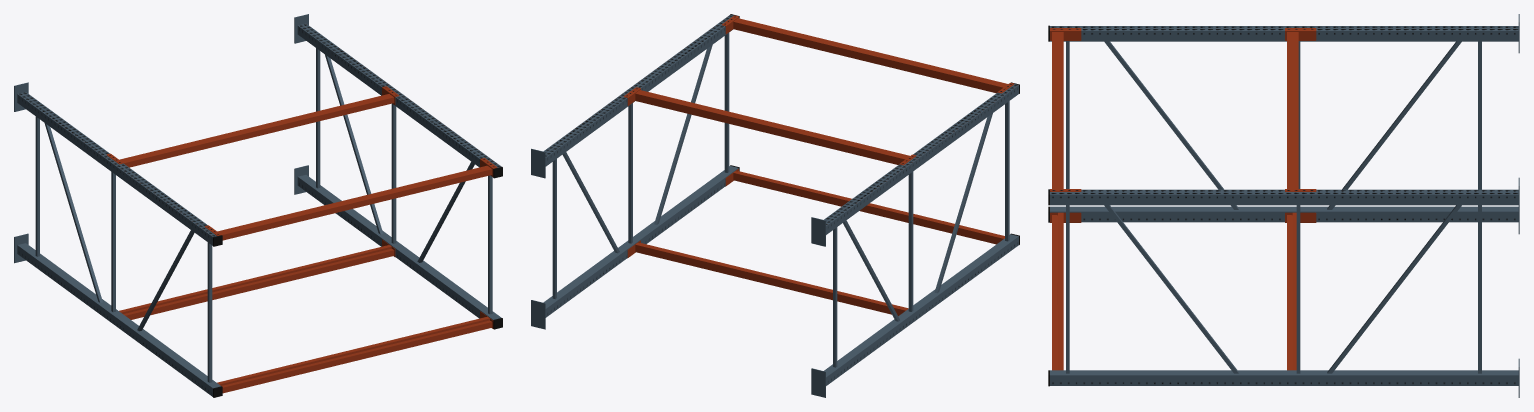
3 renders of one model, left to right at view 1: azimuth 30°, elevation 25°; view 2: azimuth 150°, elevation 25°; view 3: azimuth 270°, elevation 25°, orthographic. The views are drawn at different scales.
Parts seen in each view (by area): view 1: Box014.034; view 2: Box014.034; view 3: Box014.034.
Part boxes in pixels (left/top/right/bottom): Box014.034: left=14, top=14, right=502, bottom=397; Box014.034: left=531, top=14, right=1019, bottom=397; Box014.034: left=1048, top=14, right=1519, bottom=397.
Bounding box in the file's own units: 2.64 × 1.52 × 3.06.
1 material, 1 textured.
